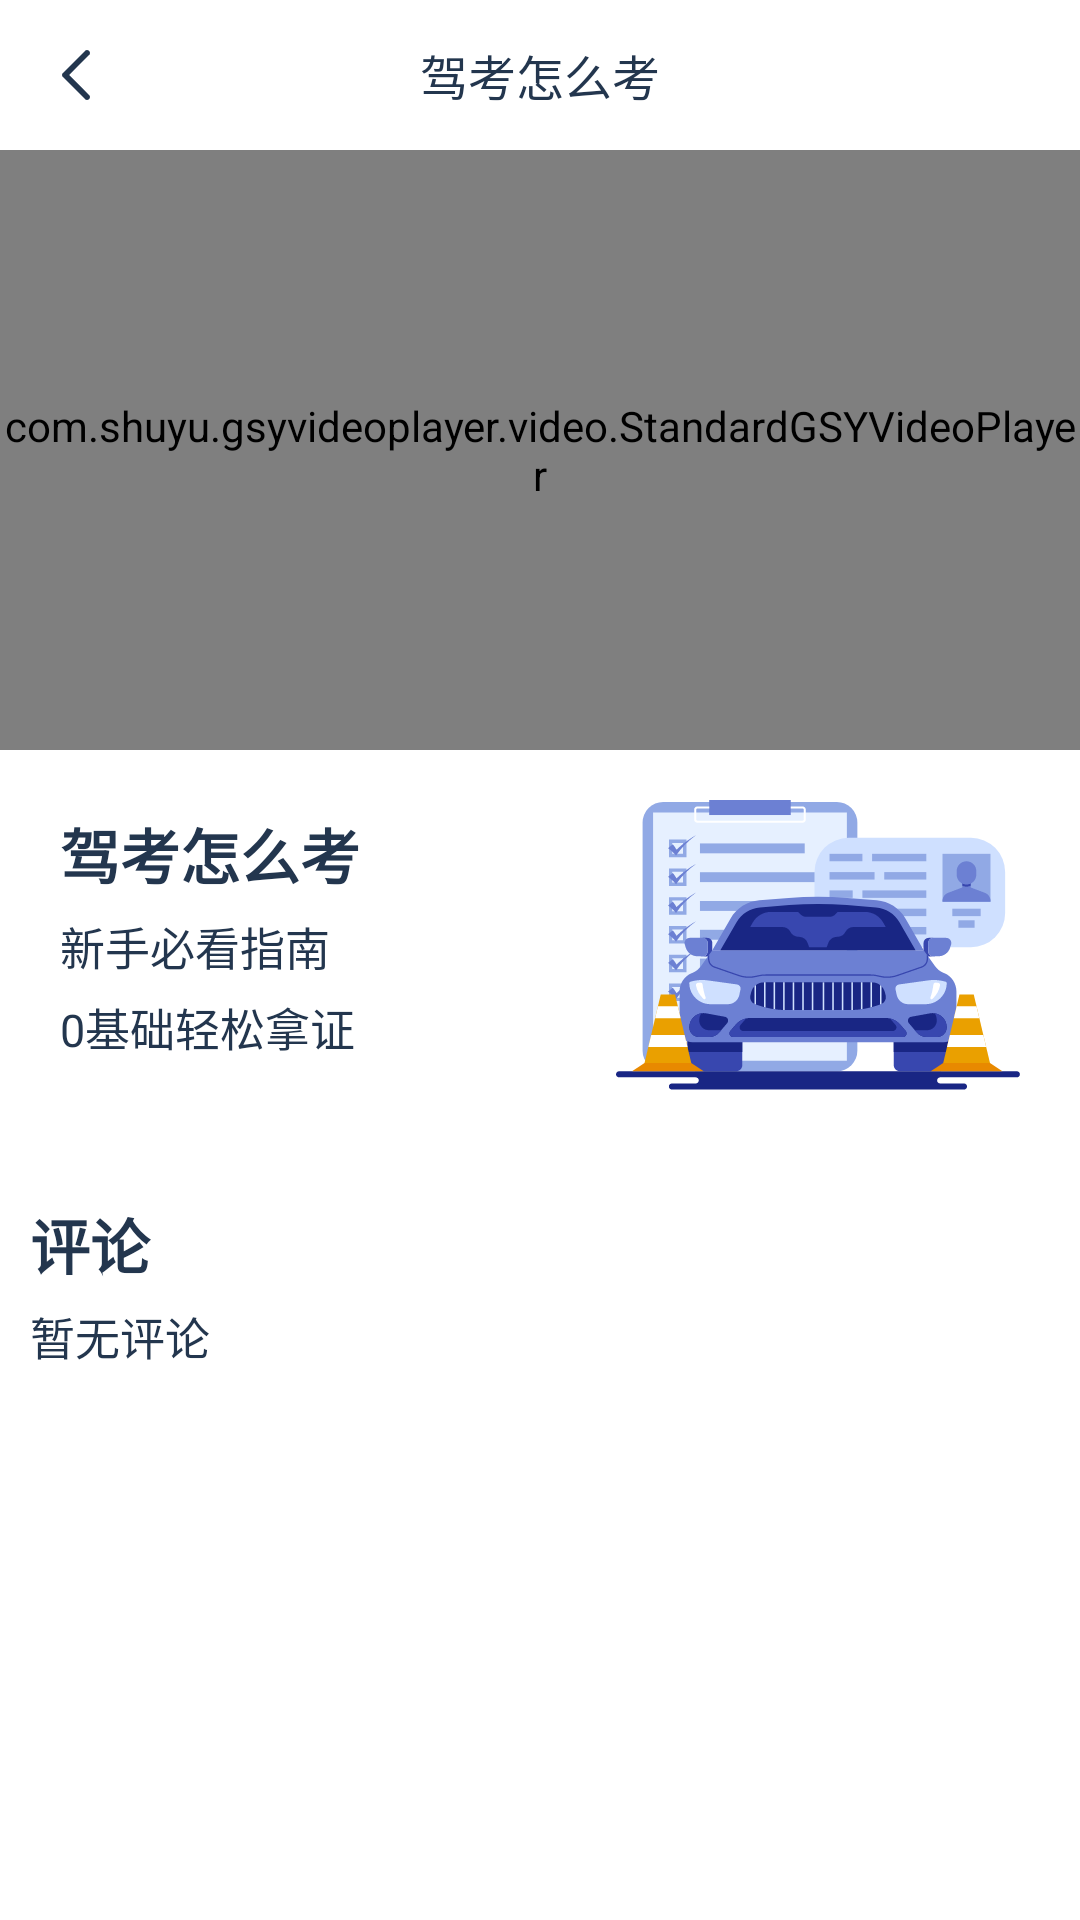

Point at icon controls on the screen. Image size 1080*1920, points as (x,y).
back: (76,75)
